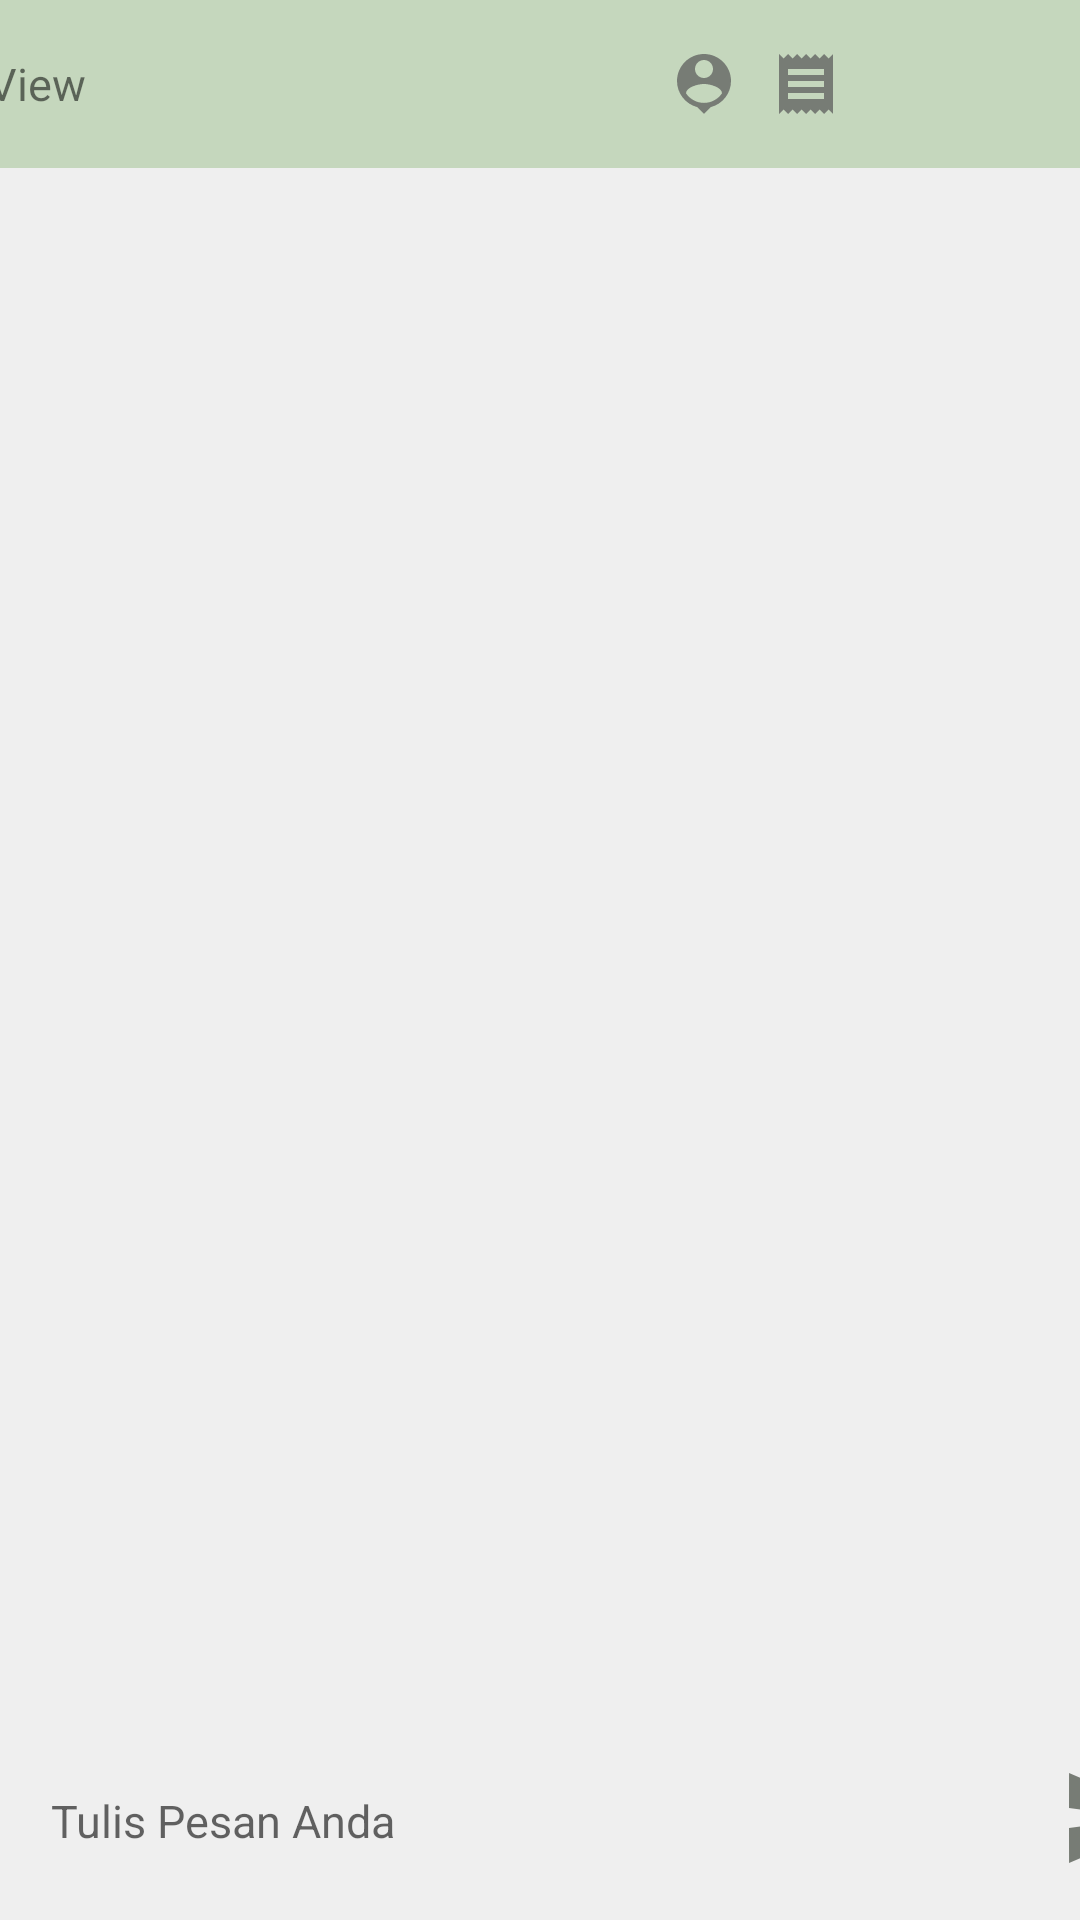

Icon click points for this 1080px×1920px phone screenshot, format (x=x, y=y):
person pin: (x=704, y=84)
receipt: (x=806, y=84)
